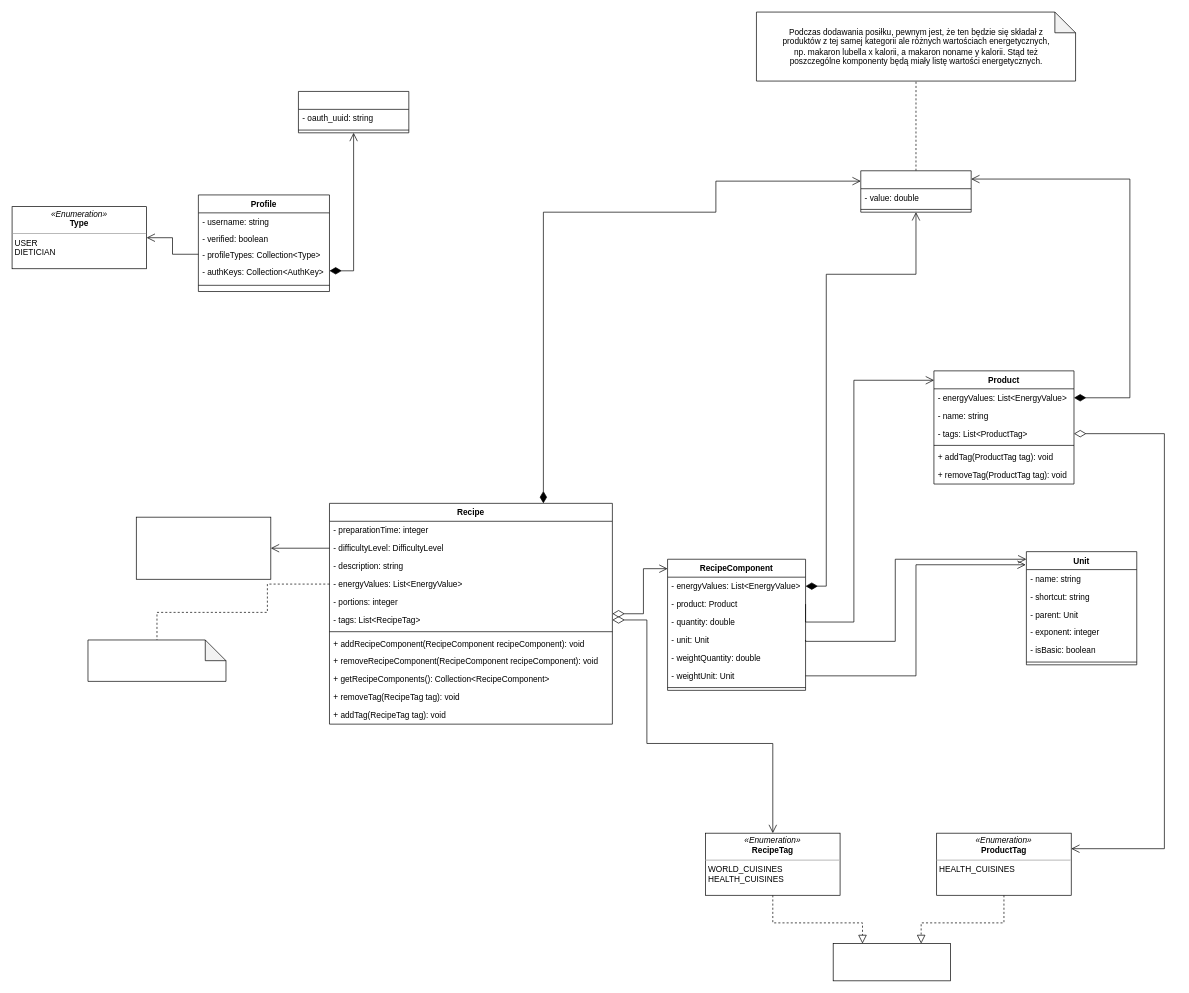
This 1189x993 diagram has some shape labels left out. The shapes that lost their labels are listed below. From the top down, each one's box as (x1, y1, x2, y2) in pixels, then its label:
(298, 91, 409, 133): AuthKey
(860, 170, 971, 212): EnergyValue
(136, 516, 271, 579): «Enumeration» DifficultyLevel EASY MEDIUM HARD
(87, 639, 226, 681): Wartości energetyczne w przedziale od - do
(832, 943, 950, 981): «Interface» TagInterface
